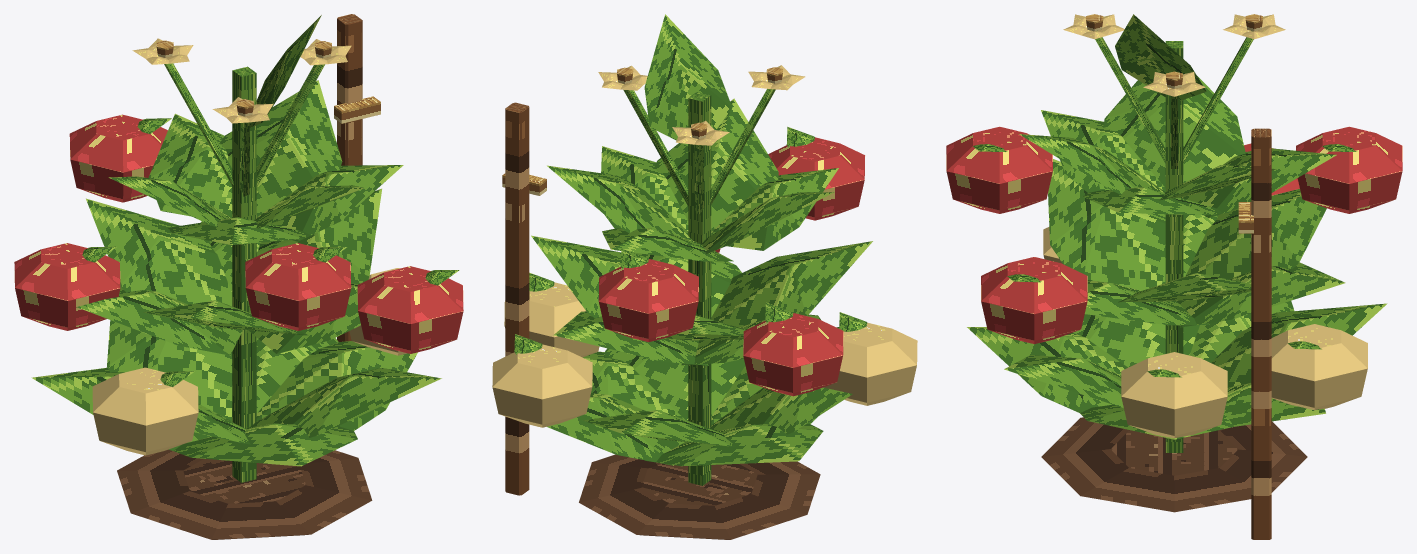
The model's file is crop_ripe.glb.
The picture shows the model from 3 angles, left to right: view 1: azimuth 30°, elevation 25°; view 2: azimuth 150°, elevation 25°; view 3: azimuth 270°, elevation 25°; orthographic projection. The views are drawn at different scales.
Visible parts, largest first — view 1: crop_ripe; view 2: crop_ripe; view 3: crop_ripe.
Boxes of the visible parts, x1,y1,x2,y2 form: crop_ripe: (14,14,463,539); crop_ripe: (492,14,917,539); crop_ripe: (946,14,1402,539).
Size of the model in its own units: 13 by 15 by 13.
Materials: 1 (1 with a texture image).
